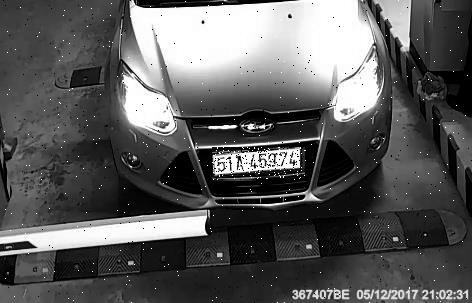License-plate: (214, 149, 308, 182)
